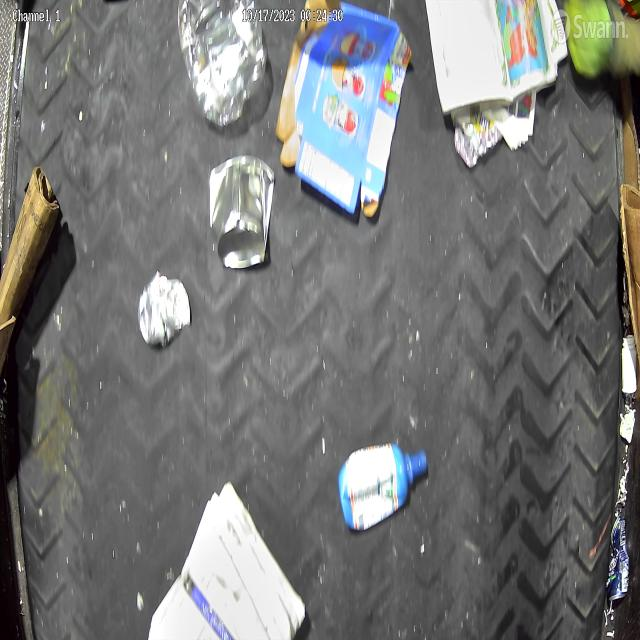can: (210, 156, 274, 269), (606, 514, 629, 601)
